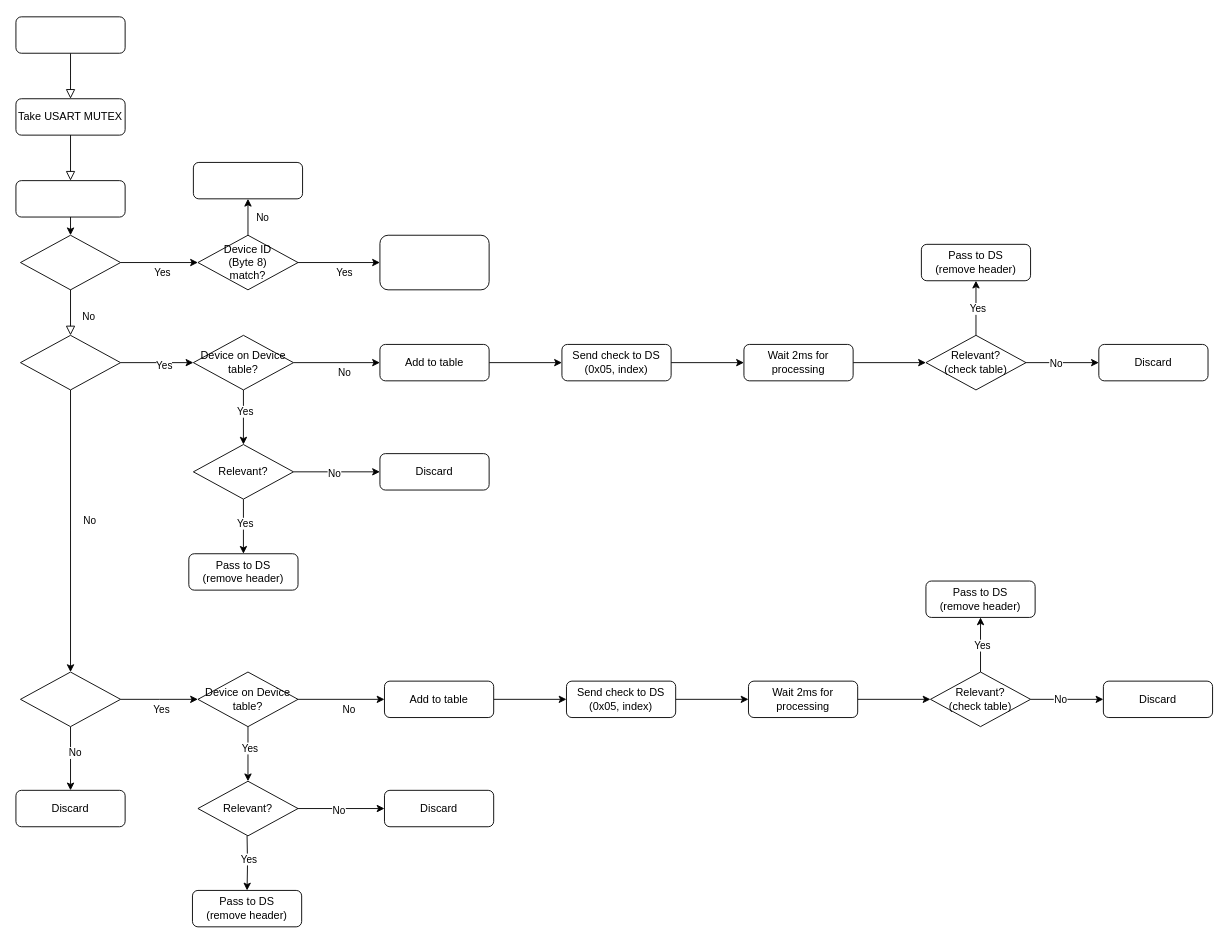
Image size: 1229x943. Some labels were removed from this diagram. Each missing label, with the centre of its shape:
"Channel Match" belongs at pixel 70 362.
"Do nothing" belongs at pixel 247 180.
"is ping? (device type 0x05)" belongs at pixel 70 262.
"Loop and assemble until 0x03 (end delimiter) Release MUTEX" belongs at pixel 70 198.
"message start delimiter (0xAA)" belongs at pixel 70 34.
"Send notification to RS485OUT" belongs at pixel 434 262.
"Special Channel?" belongs at pixel 70 699.
